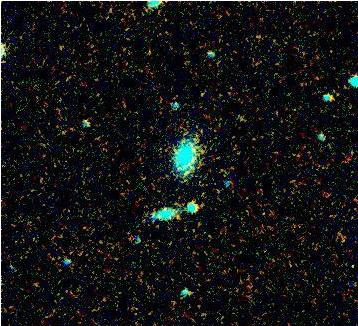star: (211, 157, 241, 187)
